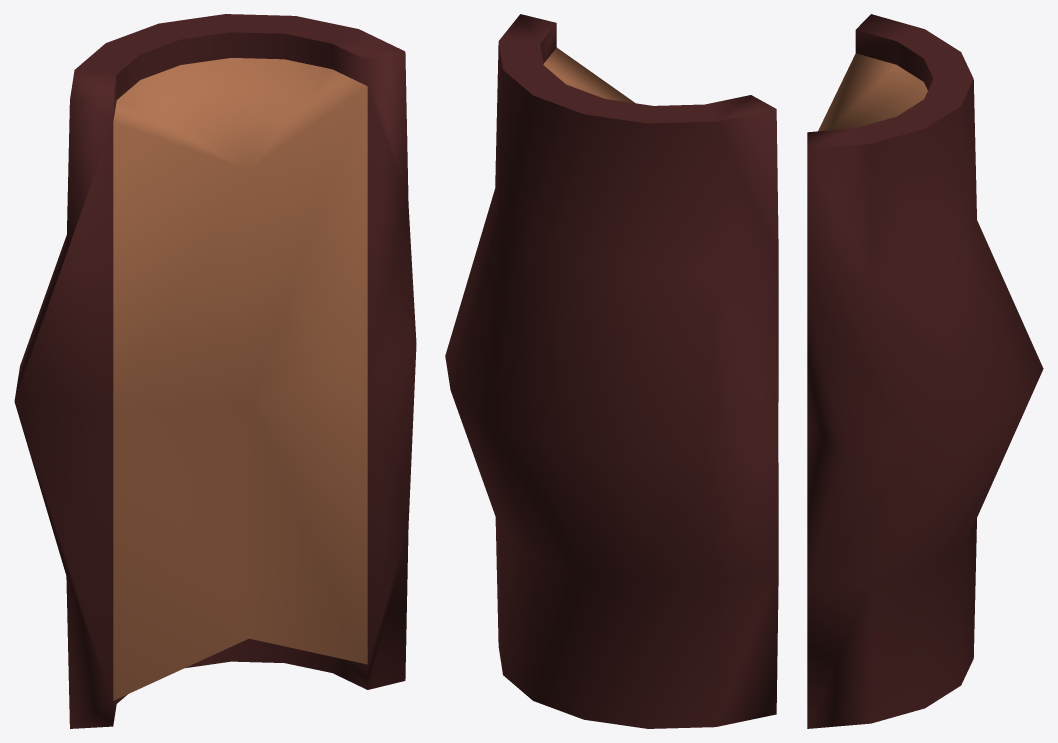
Rendered from mdl_souche.fbx.
The picture shows the model from 3 angles, left to right: view 1: azimuth 30°, elevation 25°; view 2: azimuth 150°, elevation 25°; view 3: azimuth 270°, elevation 25°; orthographic projection. The views are drawn at different scales.
Parts seen in each view (by area): view 1: mdl_souche; view 2: mdl_souche; view 3: mdl_souche.
Part boxes in pixels (left/top/right/bottom): mdl_souche: left=14, top=14, right=416, bottom=728; mdl_souche: left=445, top=14, right=778, bottom=728; mdl_souche: left=807, top=14, right=1043, bottom=728.
Bounding box in the file's own units: 65.7 × 110 × 40.45.
